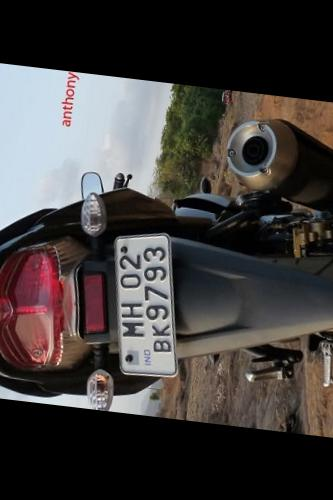plate: (96, 217, 190, 382)
